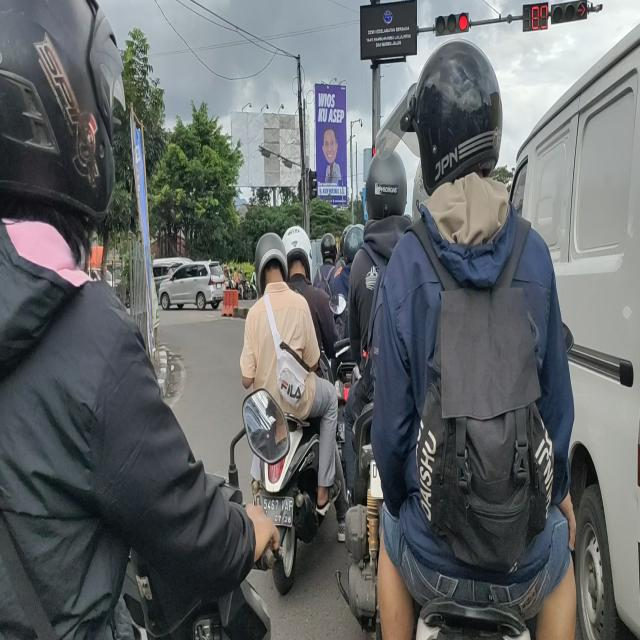helmet: (0, 0, 113, 208), (416, 38, 502, 180), (365, 150, 408, 223), (252, 232, 286, 291), (285, 224, 309, 286), (343, 228, 361, 265), (322, 233, 337, 270)
